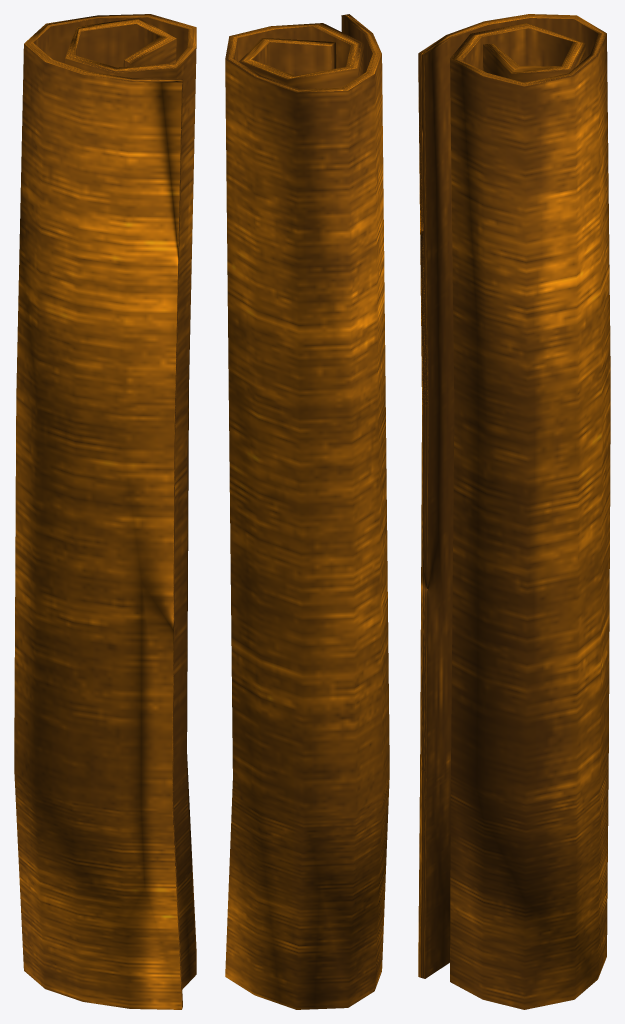
Rendered from CinnamonStick.fbx.
3 renders of one model, left to right at view 1: azimuth 30°, elevation 25°; view 2: azimuth 150°, elevation 25°; view 3: azimuth 270°, elevation 25°, orthographic.
Visible parts, largest first — view 1: Cinnamon; view 2: Cinnamon; view 3: Cinnamon.
Boxes of the visible parts, <box> form: Cinnamon: <box>14,14,196,1009</box>; Cinnamon: <box>225,14,389,1009</box>; Cinnamon: <box>418,14,610,1009</box>.
Bounding box in the file's own units: 34.38 × 193 × 36.43.
Materials: 1 (1 with a texture image).
